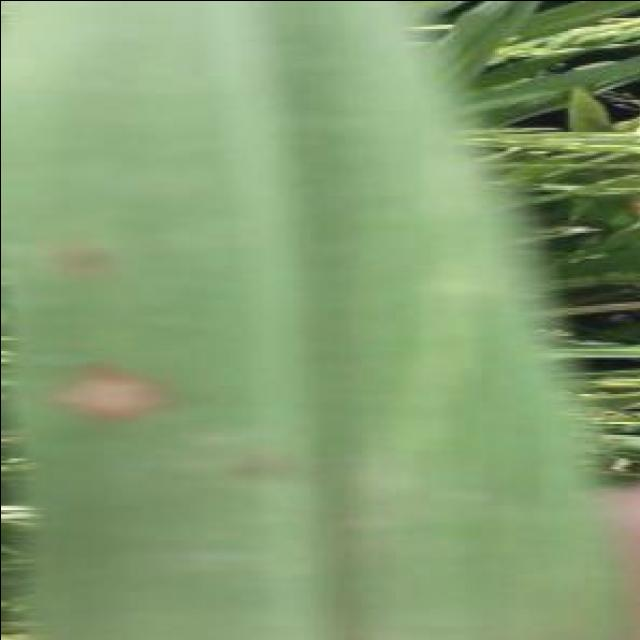Leaf_Blast: (38, 350, 180, 486)
